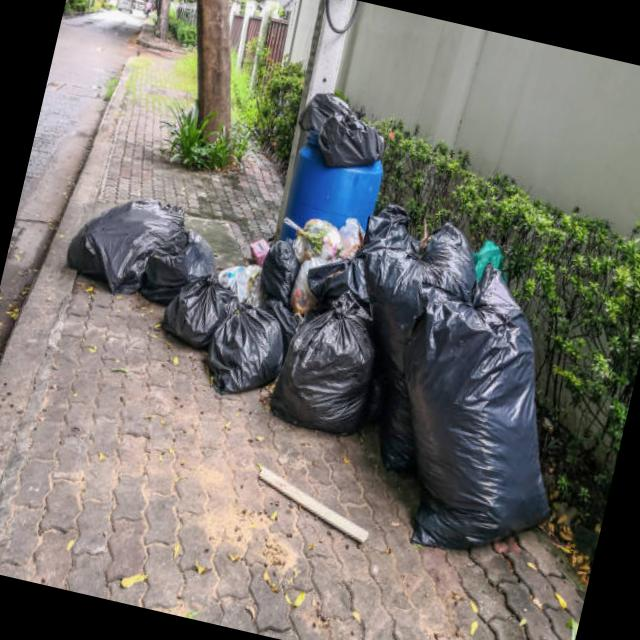garbage: (24, 41, 640, 588)
